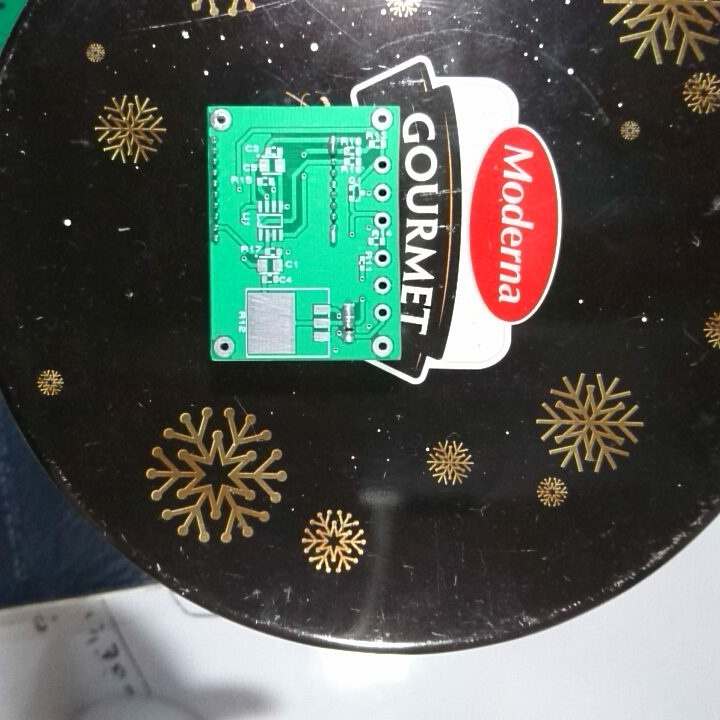F: (208, 107, 234, 133), (370, 107, 395, 134), (370, 333, 395, 358), (213, 334, 237, 358), (371, 181, 394, 204), (371, 208, 393, 231), (371, 154, 393, 176), (371, 247, 393, 269), (371, 300, 392, 323), (372, 275, 392, 296)
P: (339, 300, 355, 329), (327, 222, 339, 248), (326, 133, 338, 159)
